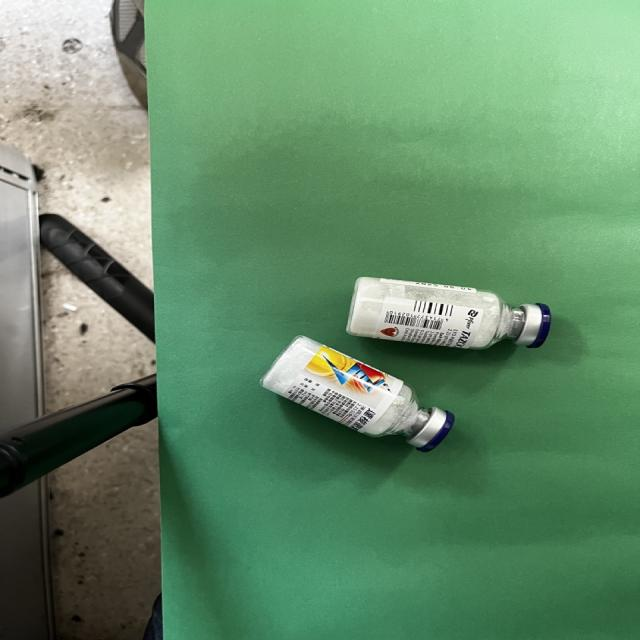Vials: (263, 336, 454, 452), (346, 278, 551, 349)
